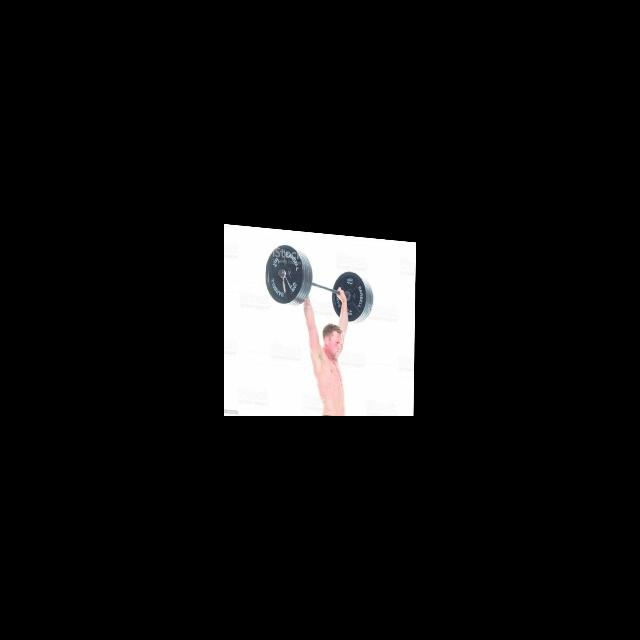barbell: (263, 241, 305, 307)
